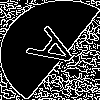A: (25, 25, 90, 79)
